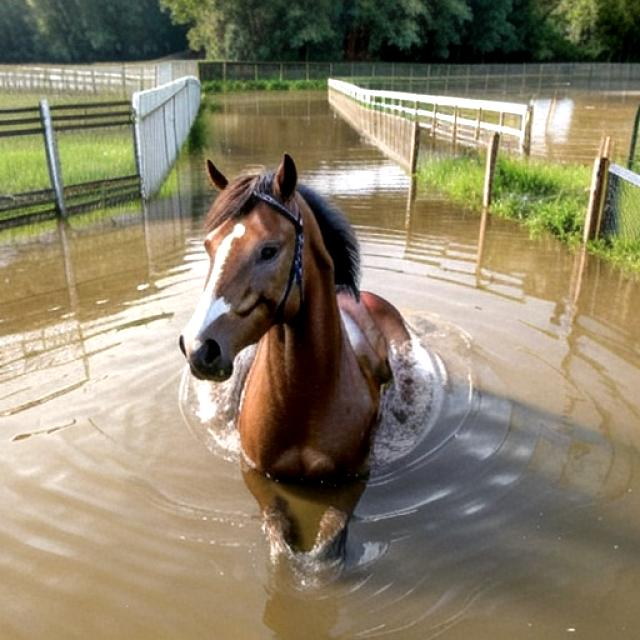horse: (171, 145, 433, 587)
